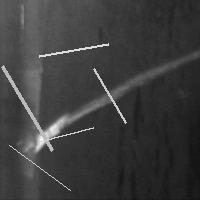scratches: (20, 52, 196, 156), (0, 61, 57, 155), (4, 140, 75, 195), (89, 64, 131, 128), (34, 39, 113, 61), (34, 122, 98, 146)
